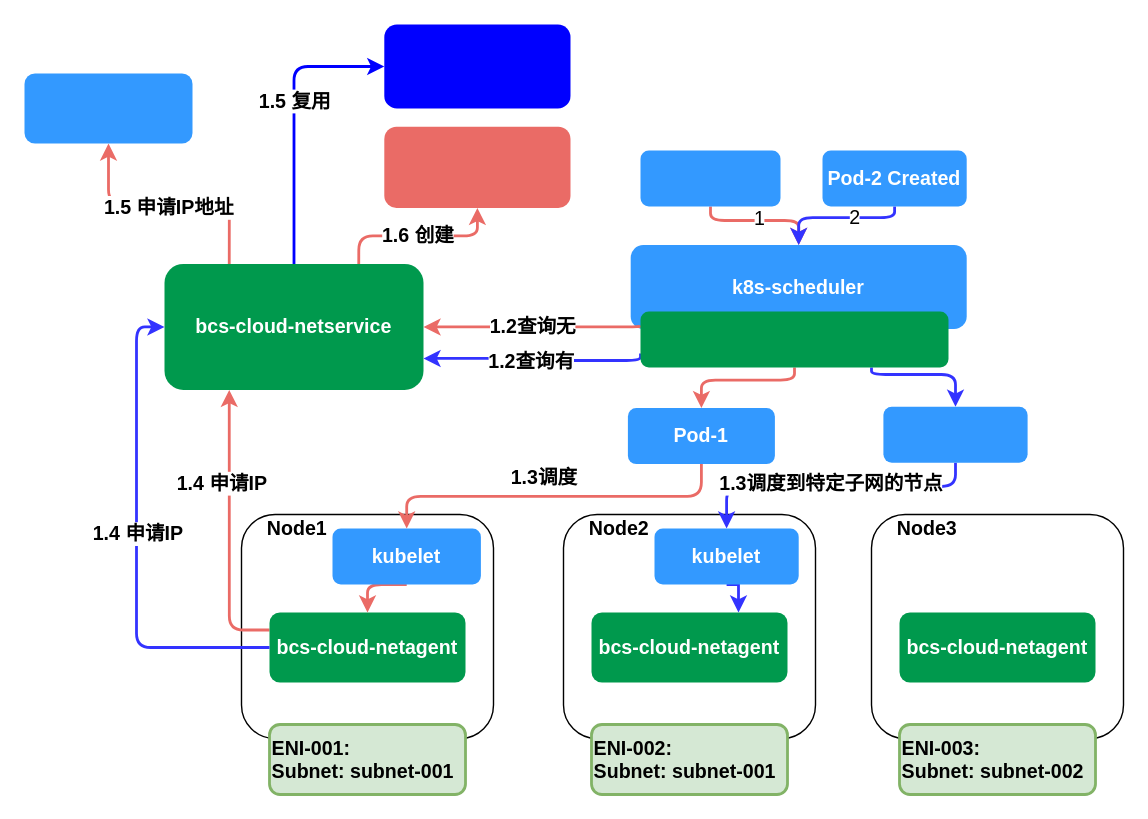
The diagram is 1148 pixels wide and 819 high, and some of its shapes have lost their labels. The centre of each missing label's shape, as x and y in pixels:
bcs-custom-scheduler (extender): point 794,339
cloud interface: point 108,108
fixed ip记录 （Subnet-001） Pod-1: point 477,166
fixed ip记录 （Subnet-001） Pod-2: point 477,66
Pod-1 Created: point 710,178
Pod-2: point 955,434
